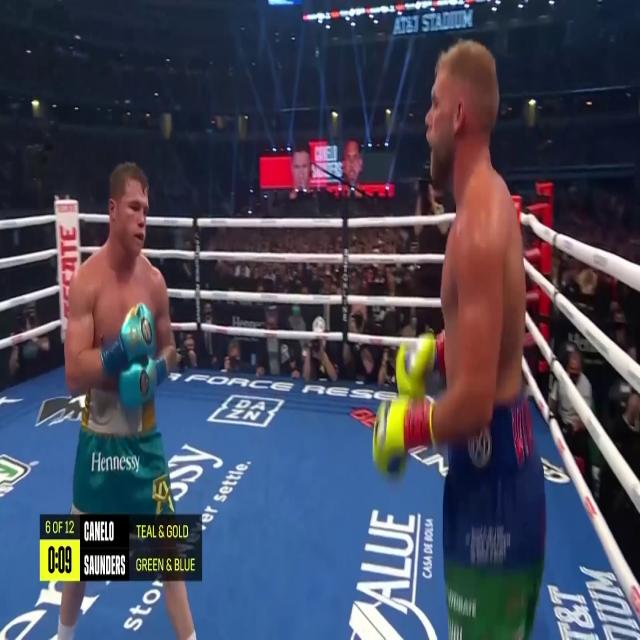boxer_1: (427, 40, 524, 402)
boxer_2: (94, 160, 155, 346)
gloves_1: (372, 330, 446, 475)
gloves_2: (101, 305, 169, 409)
